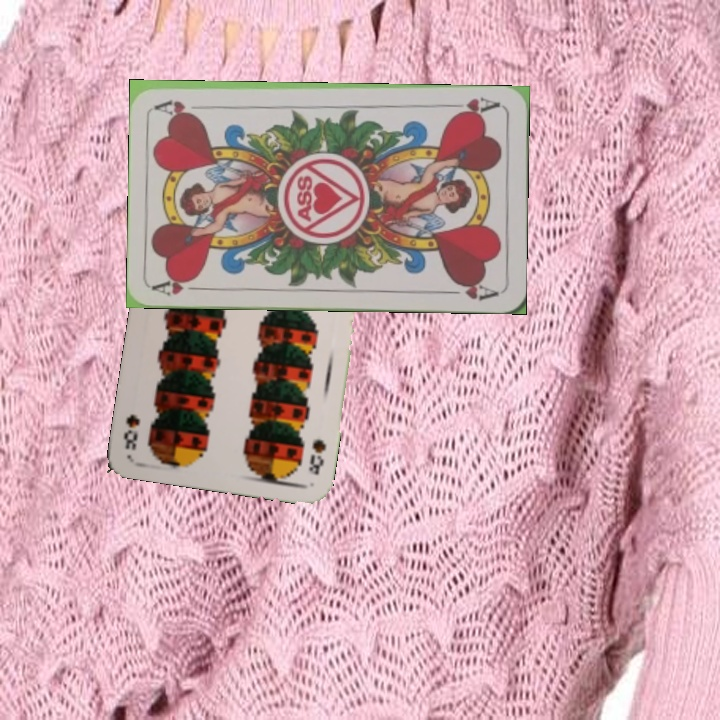HA: (444, 93, 503, 119), (151, 273, 210, 299)
S8: (305, 435, 329, 477)
